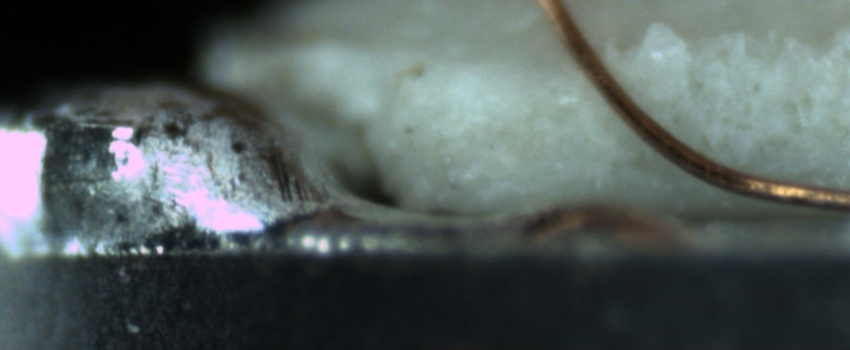DL: (422, 39, 598, 93)
